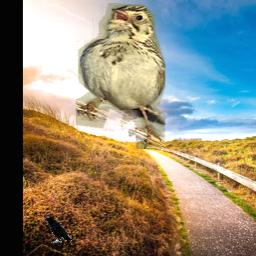Crow: (44, 215, 73, 247)
Sparrow: (76, 3, 165, 149)
